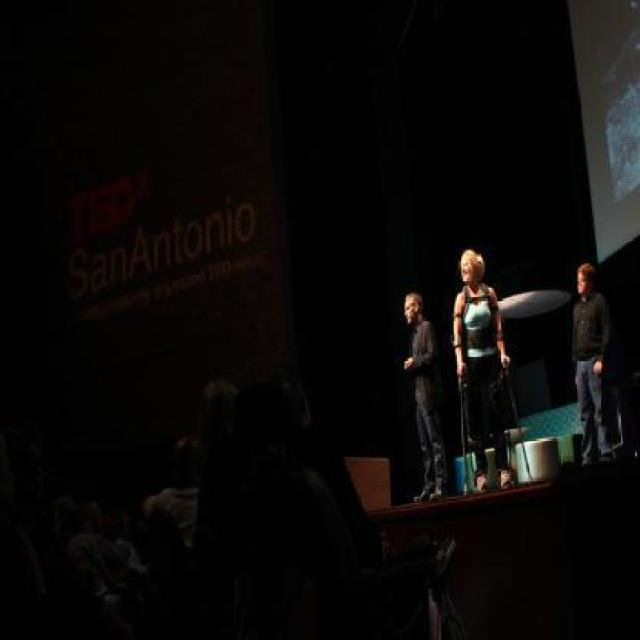Person: (54, 381, 400, 639), (451, 247, 511, 495), (410, 279, 456, 504), (572, 264, 610, 465)
